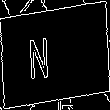N_N: (44, 28, 66, 82)
